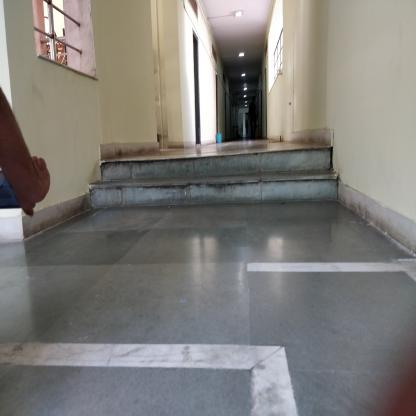stairs: (108, 152, 330, 208)
